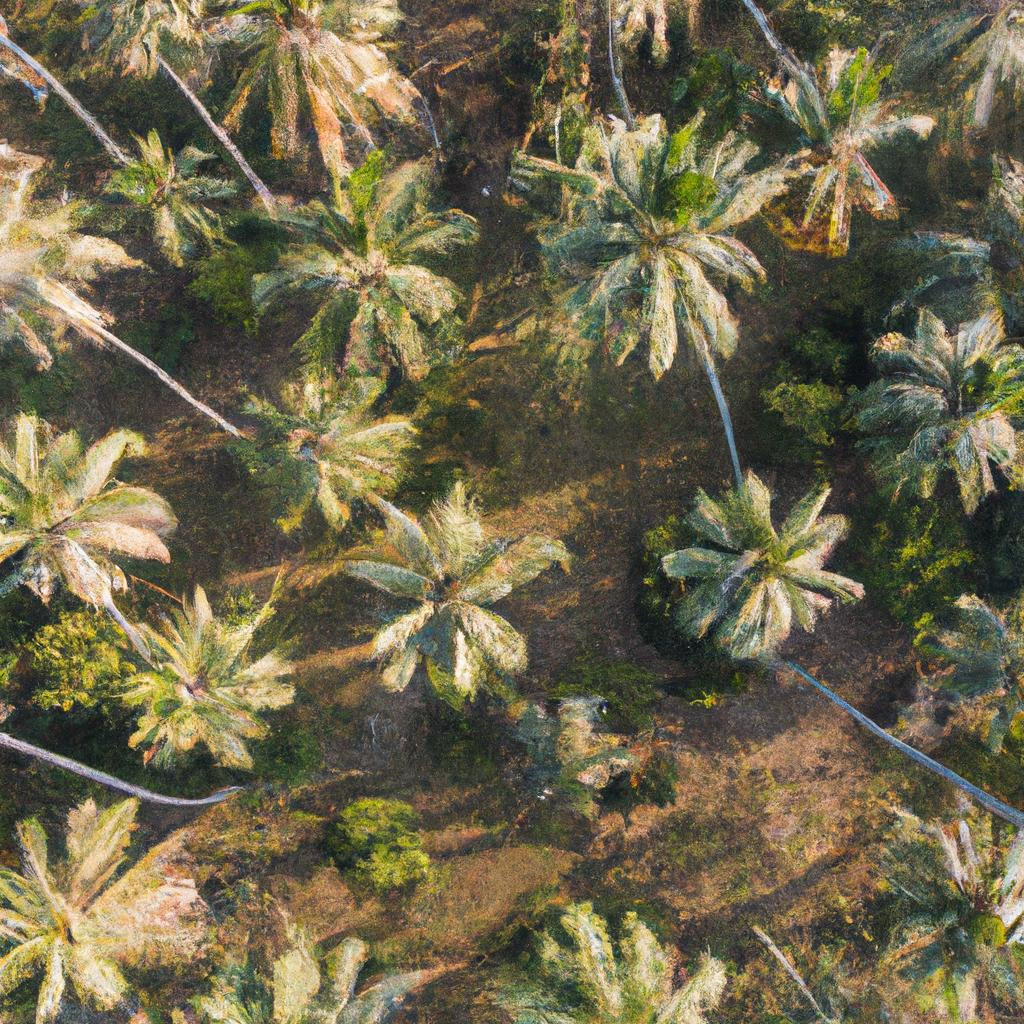coconut_tree: (519, 96, 787, 389), (244, 150, 516, 371), (323, 475, 581, 705), (5, 794, 239, 1023), (105, 585, 332, 799), (663, 461, 871, 678), (0, 394, 185, 620), (838, 299, 1023, 515), (217, 361, 435, 532)
